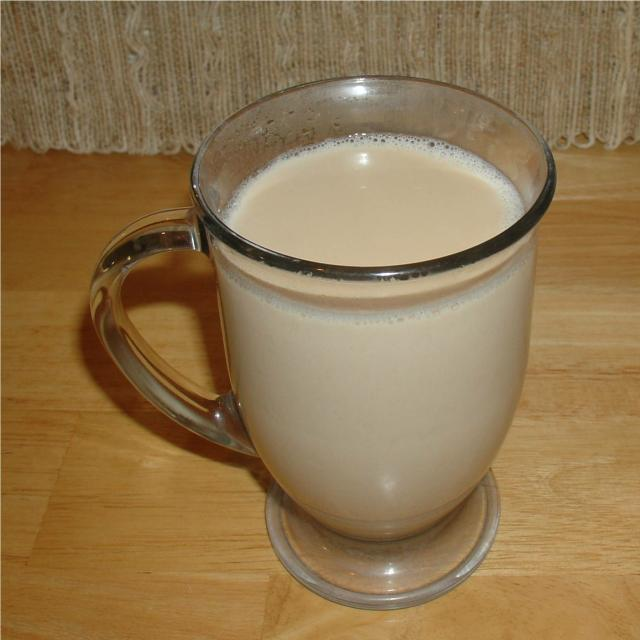Chai: (217, 126, 553, 540)
